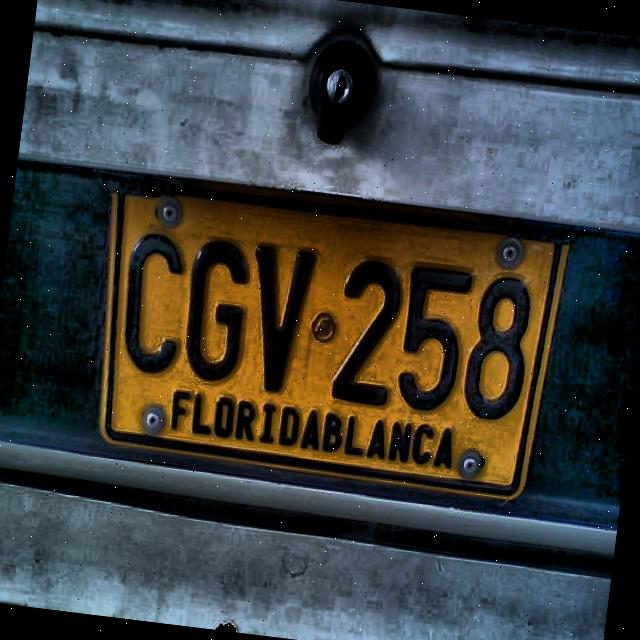2: (325, 252, 407, 411)
5: (394, 265, 476, 419)
8: (456, 268, 538, 427)
C: (118, 227, 186, 383)
G: (179, 235, 252, 389)
V: (247, 237, 325, 400)
